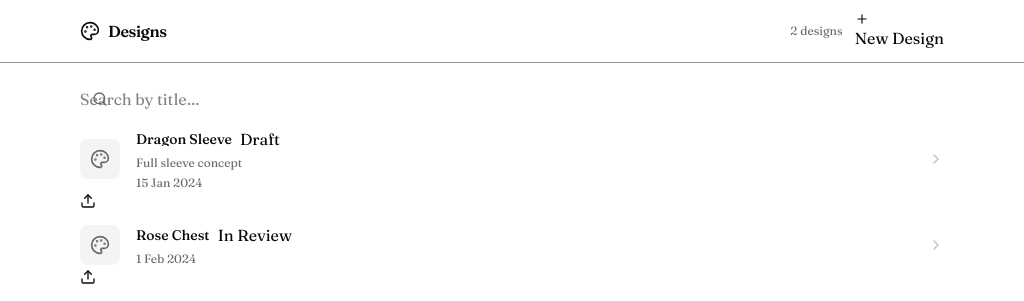
DesignListPage › shows a no-match message when search finds nothing
Check: the text "Dragon Sleeve" is shown, box [136,132,232,146]
Type "xyzzy" into the field with placeholder "Search by title…" at (186, 99), box [80,87,291,111]
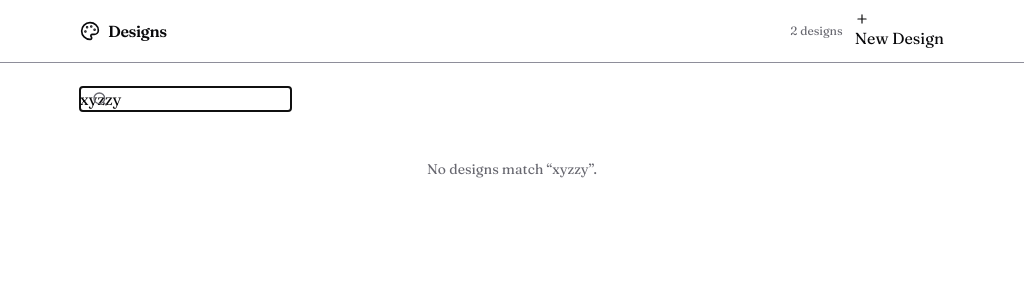
Check: the text "No designs match “xyzzy”." is shown, box [427,160,597,178]
Check: the link "Dragon Sleeve" is gone
Check: the link "Rose Chest" is gone
